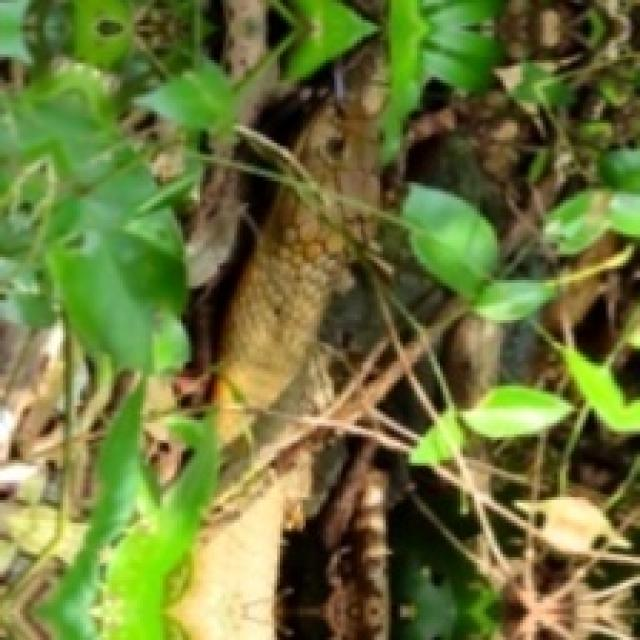king cobra: (214, 189, 346, 440), (294, 43, 383, 203)
